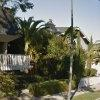Palm tree: (15, 12, 60, 68)
